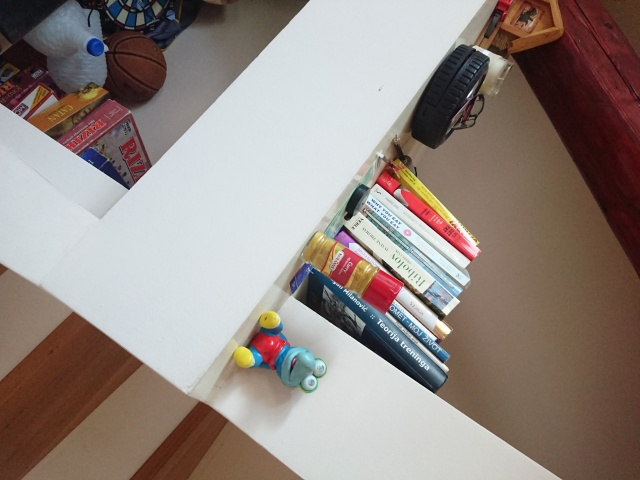Kotanyi Curry Spices Mix 70g: (300, 230, 406, 316)
